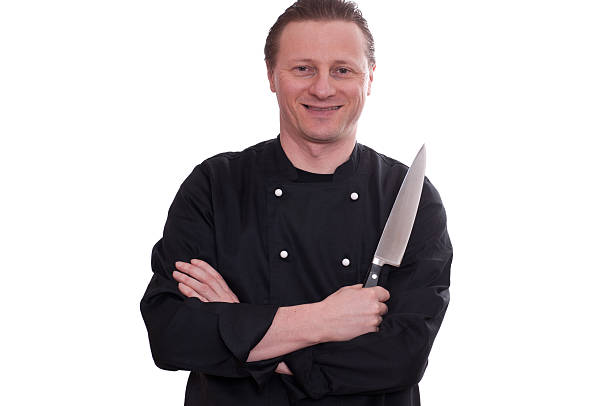knife: (362, 139, 429, 289)
